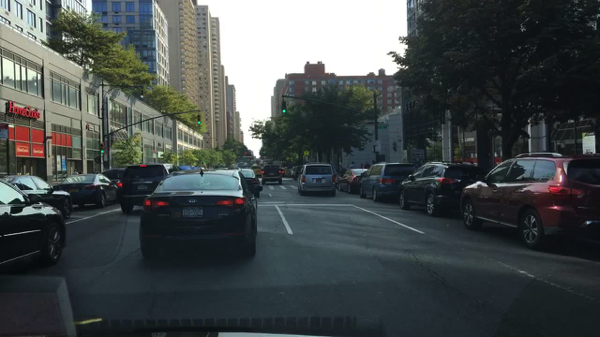car: (459, 151, 599, 250), (137, 169, 262, 259), (0, 190, 66, 272), (397, 161, 488, 216), (118, 163, 184, 215), (0, 175, 74, 220), (359, 162, 418, 201), (53, 174, 118, 208), (296, 162, 337, 197), (335, 168, 372, 192), (235, 168, 262, 199), (102, 169, 127, 188), (261, 164, 282, 185), (250, 164, 264, 178), (293, 165, 304, 179), (286, 167, 298, 176), (282, 165, 290, 176)
person: (348, 161, 358, 173), (363, 161, 371, 171), (72, 169, 79, 177), (360, 162, 365, 170)
traffic light: (281, 101, 287, 113), (100, 142, 106, 154), (196, 115, 202, 125), (371, 145, 376, 154), (262, 147, 267, 154), (235, 148, 238, 156)
traffic sign: (374, 140, 381, 152), (304, 149, 312, 157), (378, 124, 387, 129), (286, 156, 291, 161)
truck: (272, 160, 282, 173)
